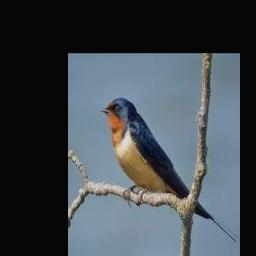Swallow: (101, 97, 238, 241)
